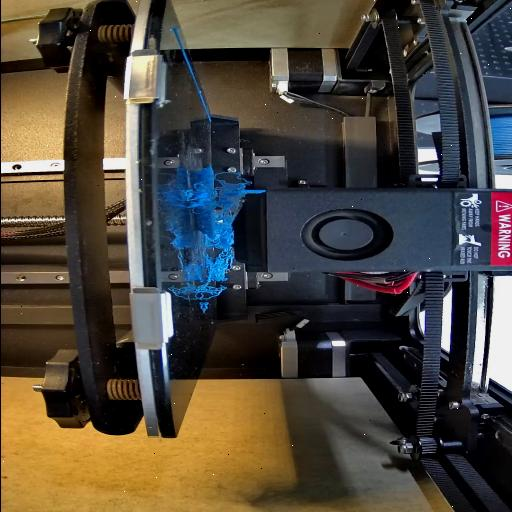spaghetti: (204, 218, 228, 282), (184, 182, 220, 212), (217, 178, 245, 214), (192, 287, 224, 301)
